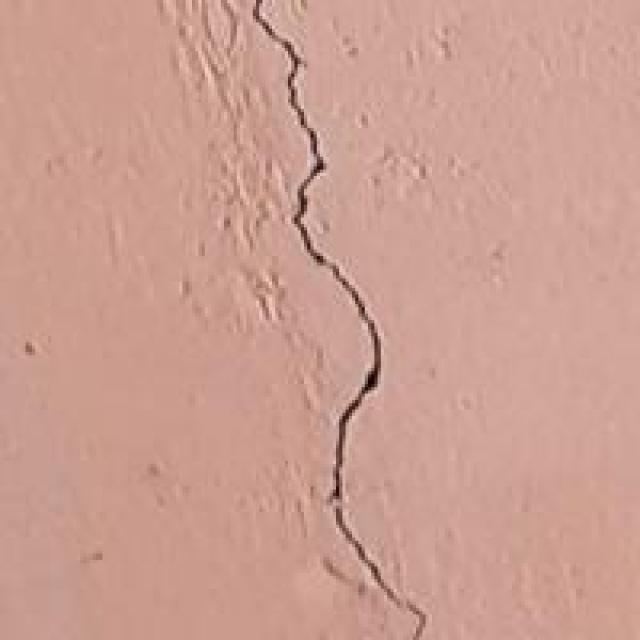Crack: (240, 0, 438, 637)
